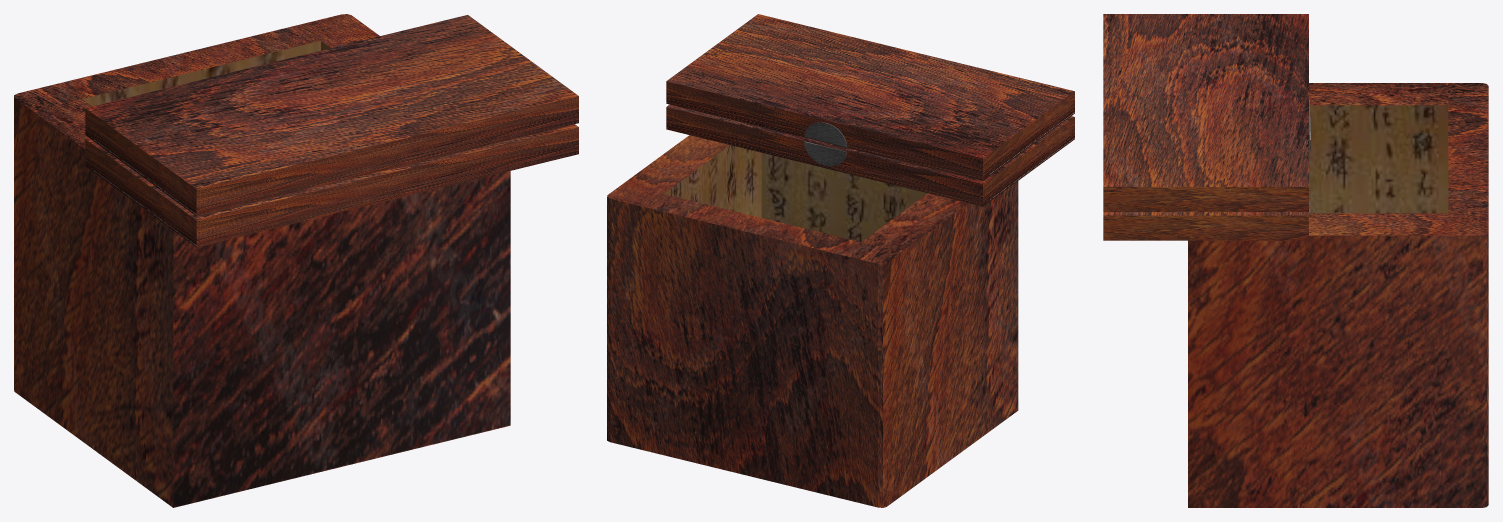
The model's file is toyboxRealFinal.fbx.
3 views of the same model, side by side, from view 1: azimuth 30°, elevation 25°; view 2: azimuth 150°, elevation 25°; view 3: azimuth 270°, elevation 25° (orthographic). The views are drawn at different scales.
Visible parts, largest first — view 1: Plane, Cube.008, Cube.003; view 2: Plane, Cube.008, Cube.003, Circle.001, Circle; view 3: Plane, Cube.008, Cube.003.
Part boxes in pixels (x1,y1,x2,y2): Plane: [14, 14, 510, 507]; Cube.008: [85, 15, 578, 216]; Cube.003: [85, 124, 578, 247]; Plane: [607, 135, 1018, 507]; Cube.008: [666, 14, 1074, 180]; Cube.003: [666, 104, 1074, 206]; Circle.001: [804, 141, 846, 166]; Circle: [804, 122, 846, 147]; Plane: [1188, 83, 1488, 507]; Cube.008: [1103, 14, 1308, 211]; Cube.003: [1103, 212, 1308, 240].
Bounding box in the file's own units: 27.21 × 24.32 × 25.65.
5 materials, 5 textured.
